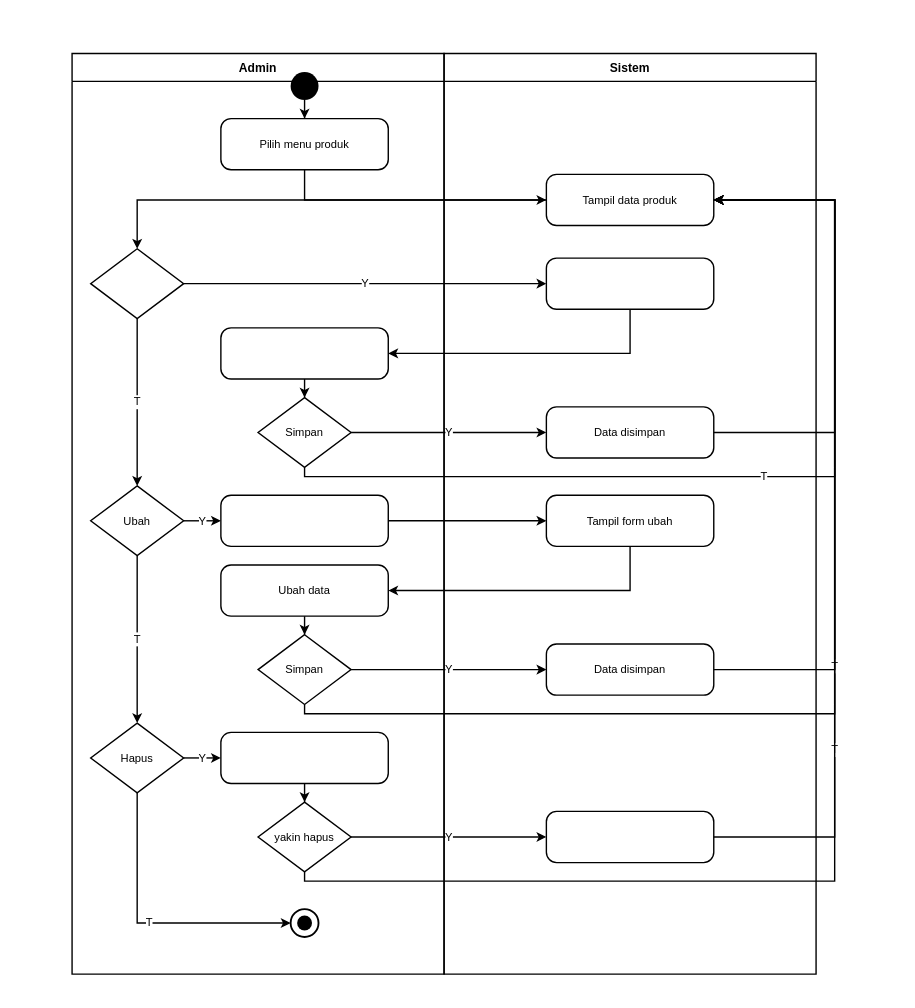
The diagram is 915 pixels wide and 1008 high, and some of its shapes have lost their labels. Each missing label, with the centre of its shape:
"Data dihapus" goes at point (629, 836).
"Pilih data yang akan dihapus" goes at point (304, 757).
"Pilih data yang diubah" goes at point (304, 520).
"Tambah" goes at point (137, 283).
"Tambah data" goes at point (304, 353).
"Tampil form tambah" goes at point (629, 283).
